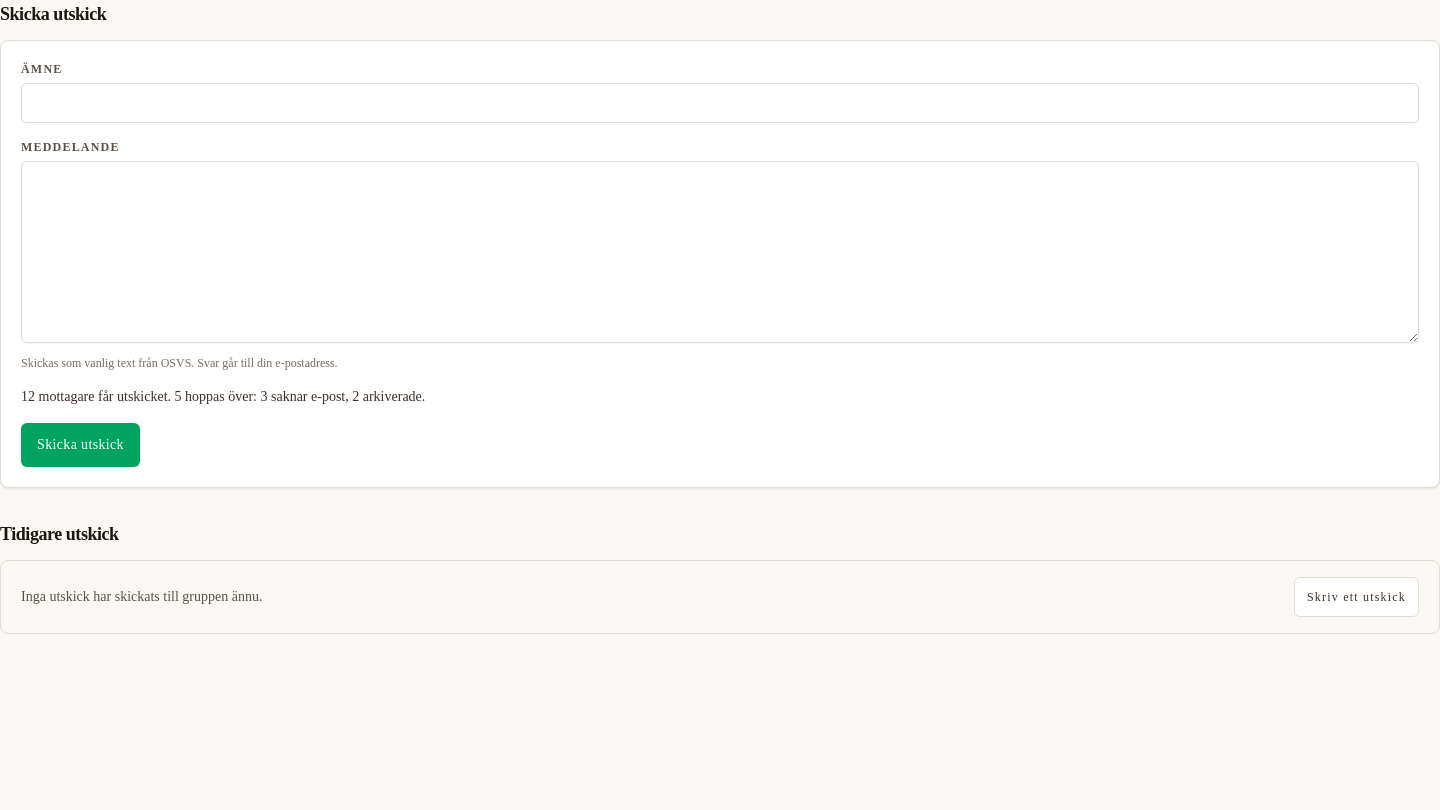
Test: GroupMailingSection › maps backend field errors inline
Expected: the text with test id "mailing-preview" is shown, [21, 389, 425, 404]
In the field labelled "Ämne": [720, 103] box [21, 83, 1419, 123], type "Kallelse"
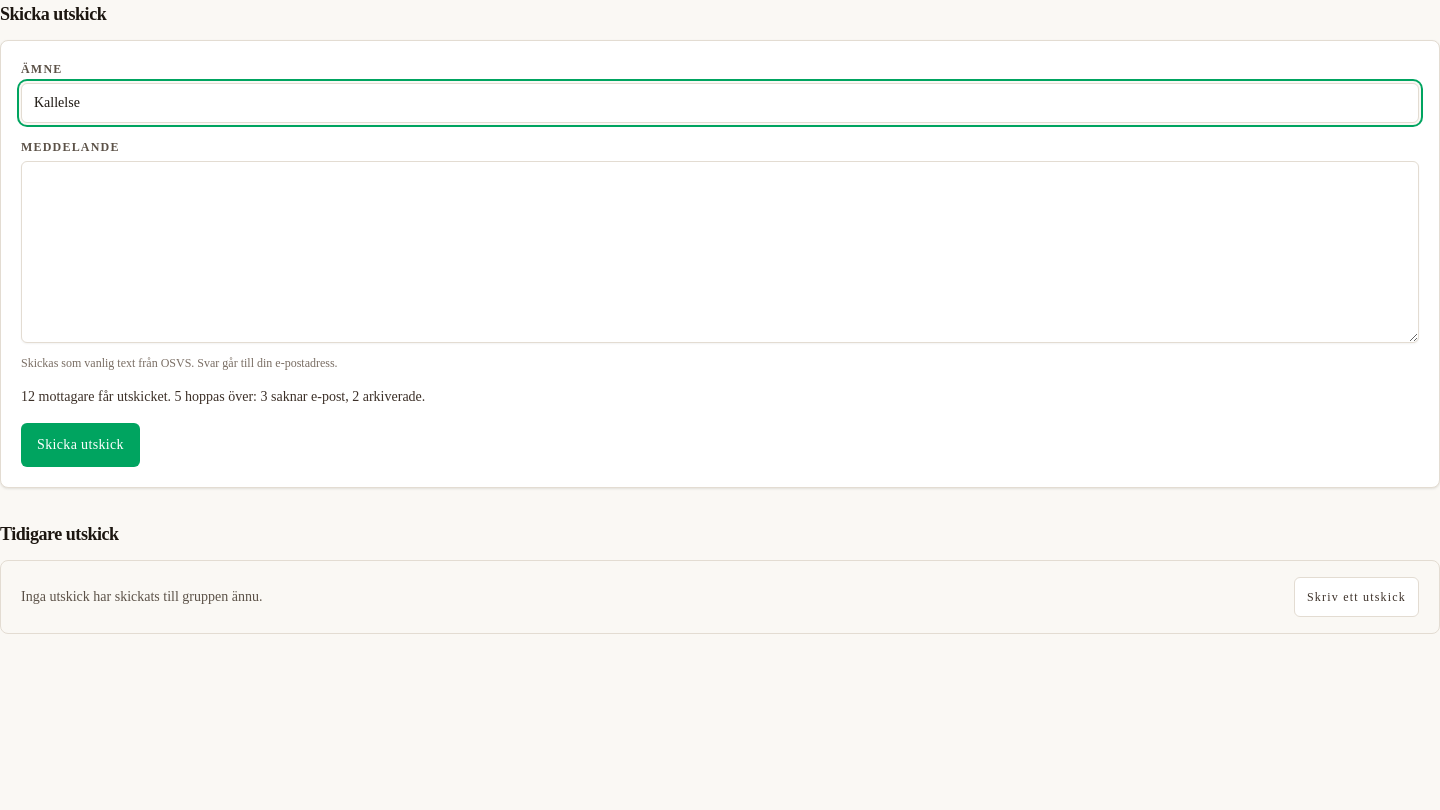
In the text box labelled "Meddelande": [720, 252] box [21, 161, 1419, 343], type "Hej"
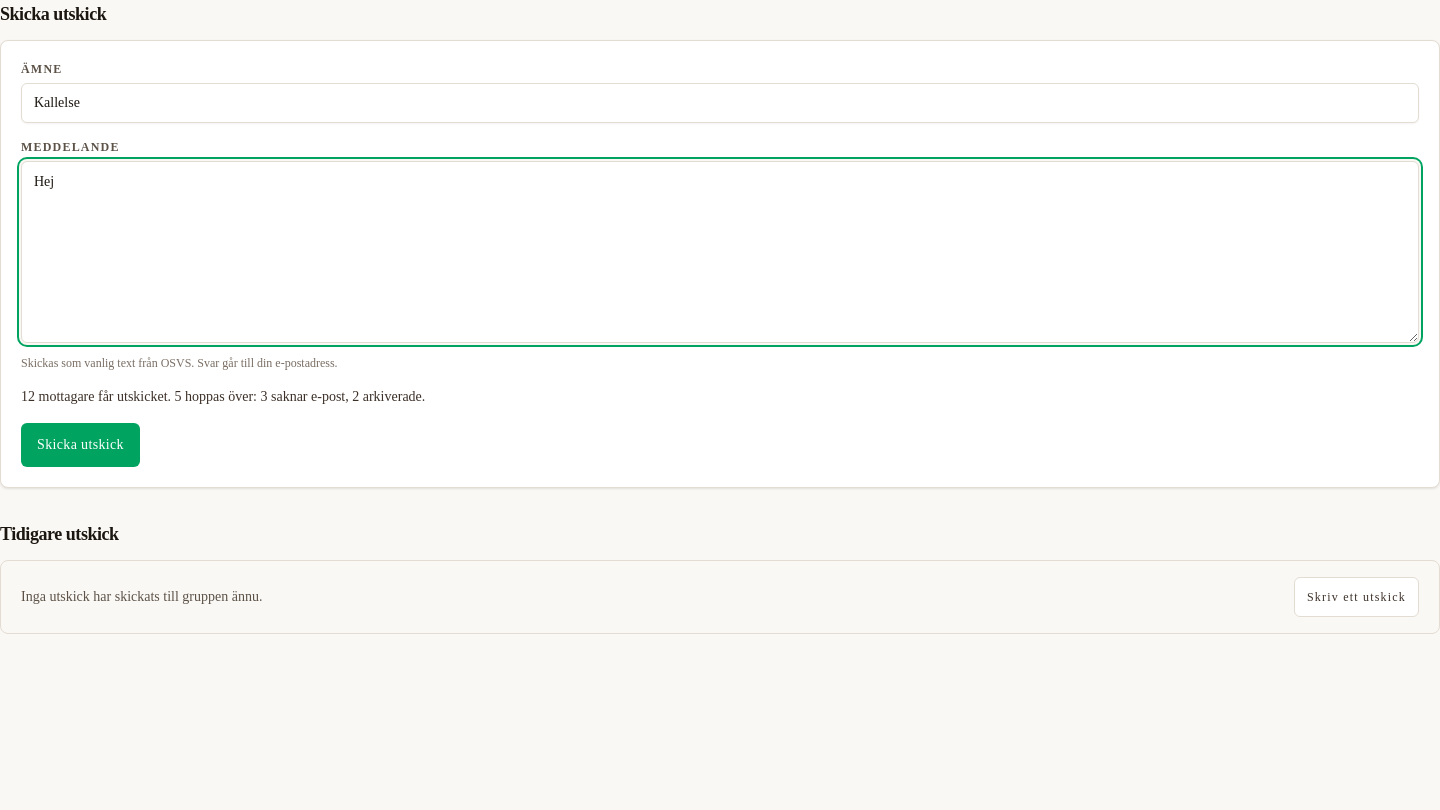
Click the button "Skicka utskick": [80, 445] box [21, 423, 140, 467]
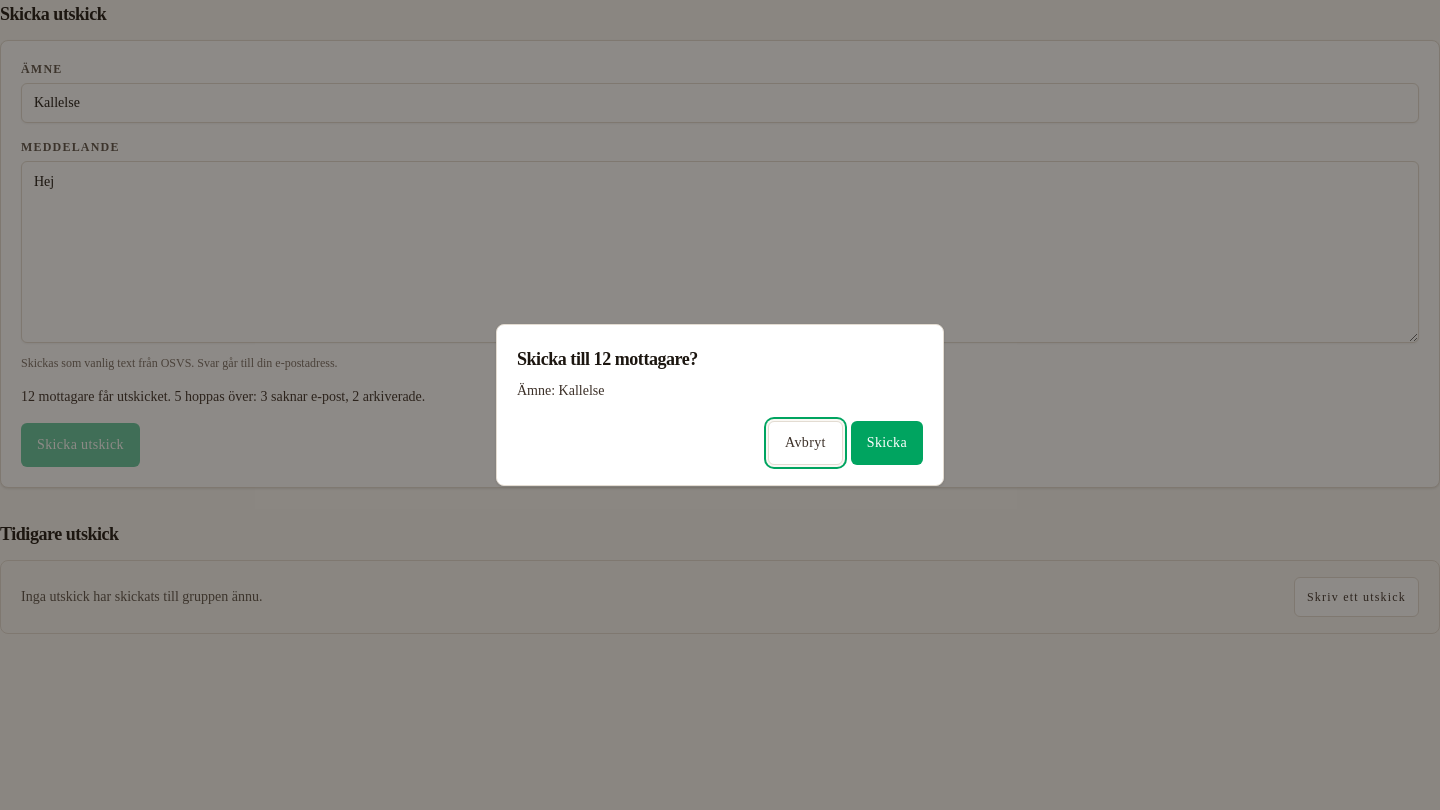
Click the button "Skicka": [887, 443] box [851, 421, 923, 465]
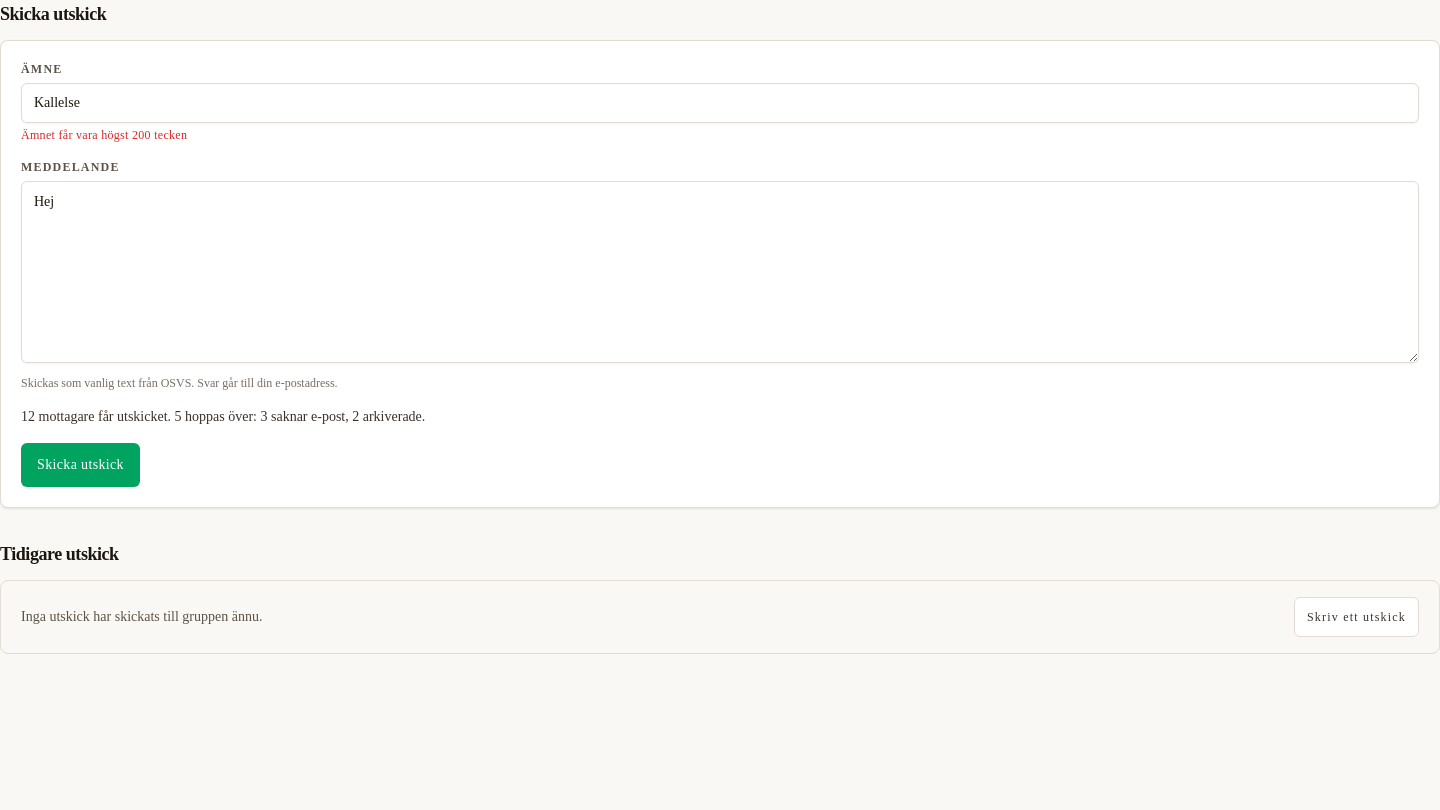
Result: the text "Ämnet får vara högst 200 tecken" is shown at [21, 128, 187, 142]
